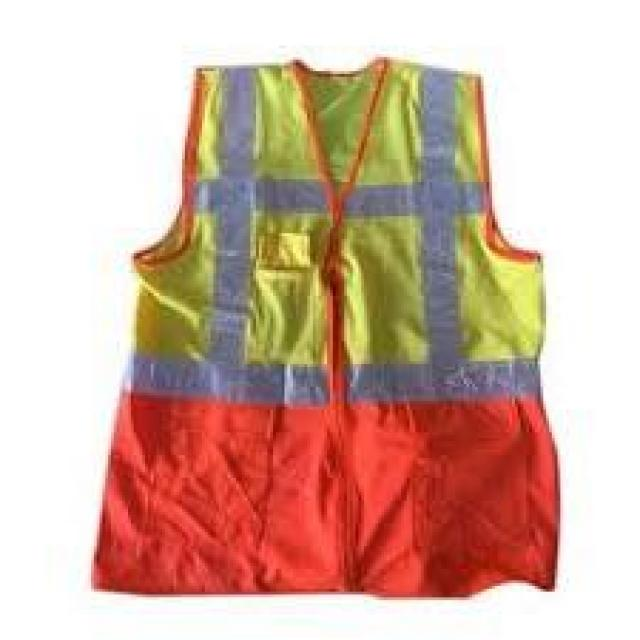Reflective-Jacket: (57, 26, 594, 600)
